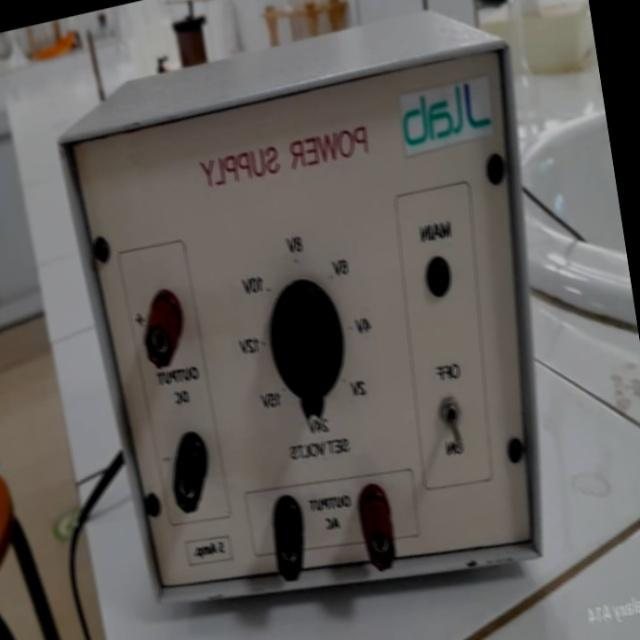Power Supply: (49, 3, 592, 640)
